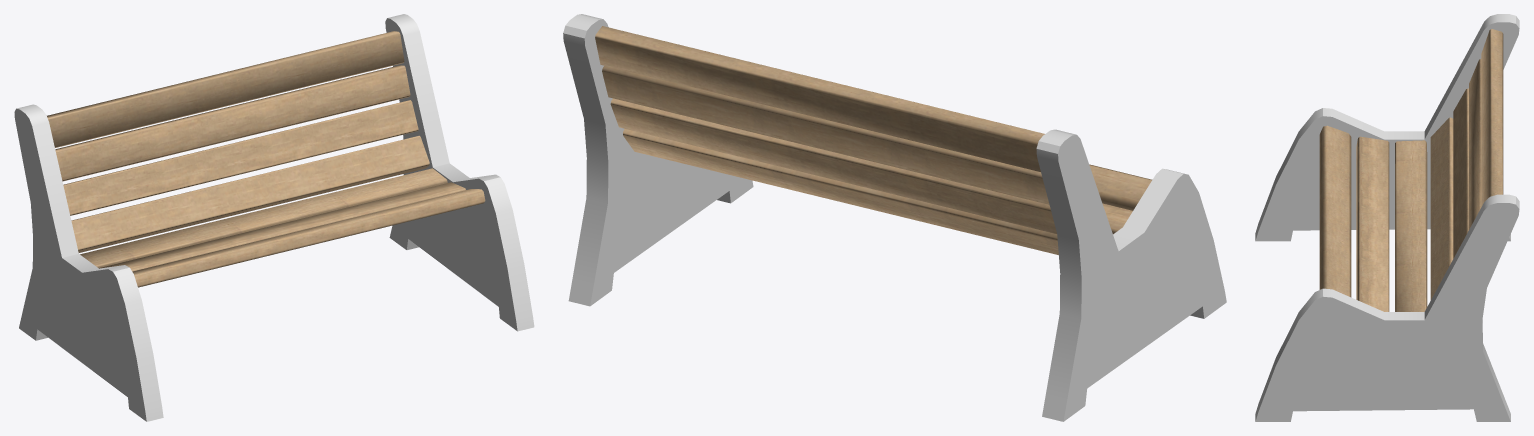
Rendered from Bench.fbx.
The picture shows the model from 3 angles, left to right: view 1: azimuth 30°, elevation 25°; view 2: azimuth 150°, elevation 25°; view 3: azimuth 270°, elevation 25°; orthographic projection. The views are drawn at different scales.
Parts seen in each view (by area): view 1: Bench_LP; view 2: Bench_LP; view 3: Bench_LP.
Boxes of the visible parts, bbox=[...] form: Bench_LP: bbox=[14, 14, 534, 421]; Bench_LP: bbox=[563, 14, 1226, 421]; Bench_LP: bbox=[1255, 14, 1519, 421].
Bounding box in the file's own units: 156 × 84.4 × 92.19.
2 materials, 1 textured.
